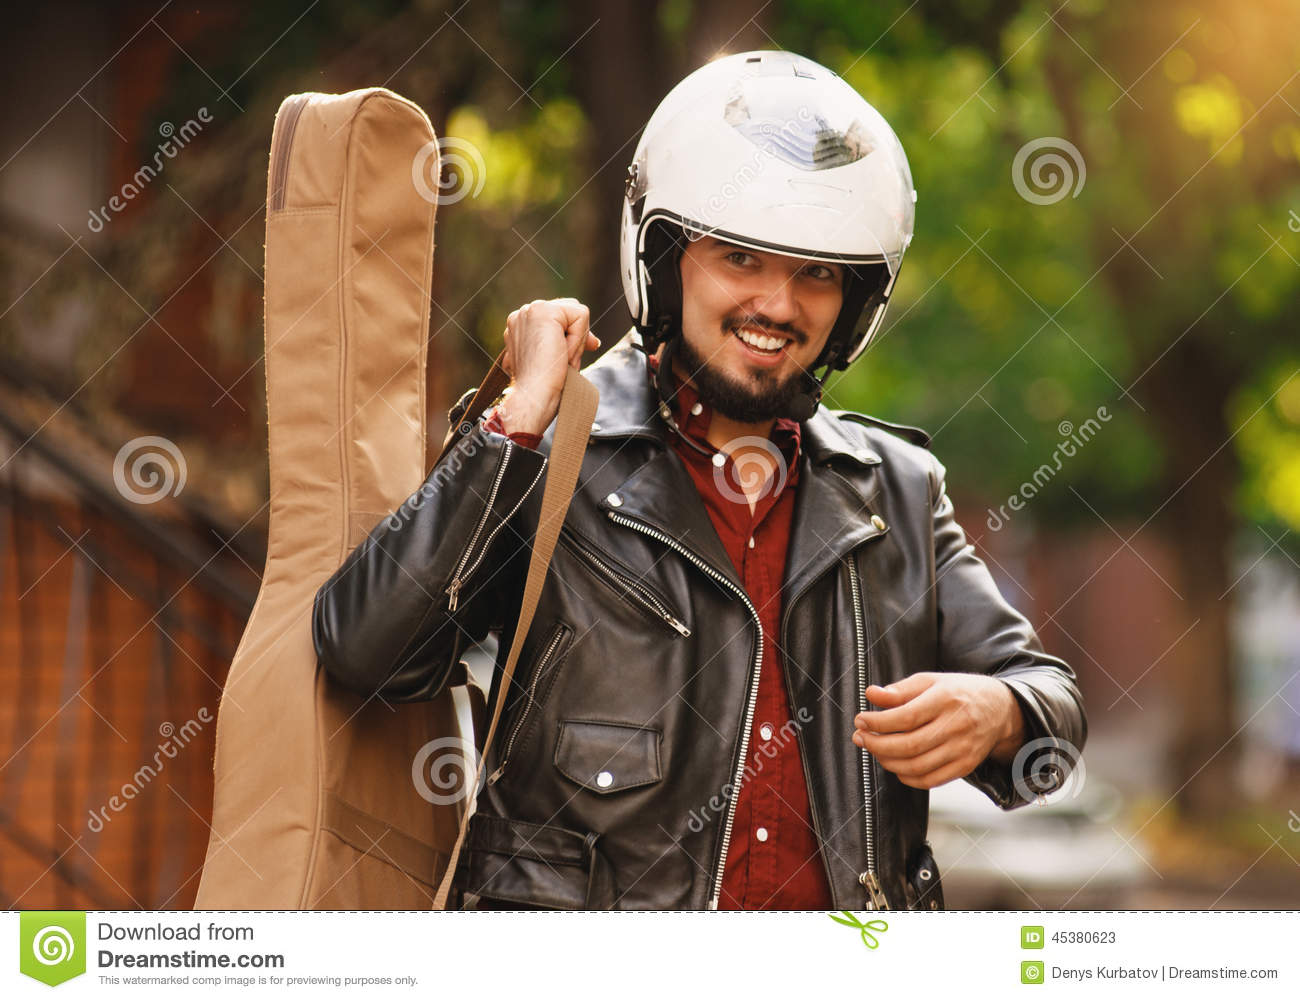helmet: (590, 47, 924, 386)
